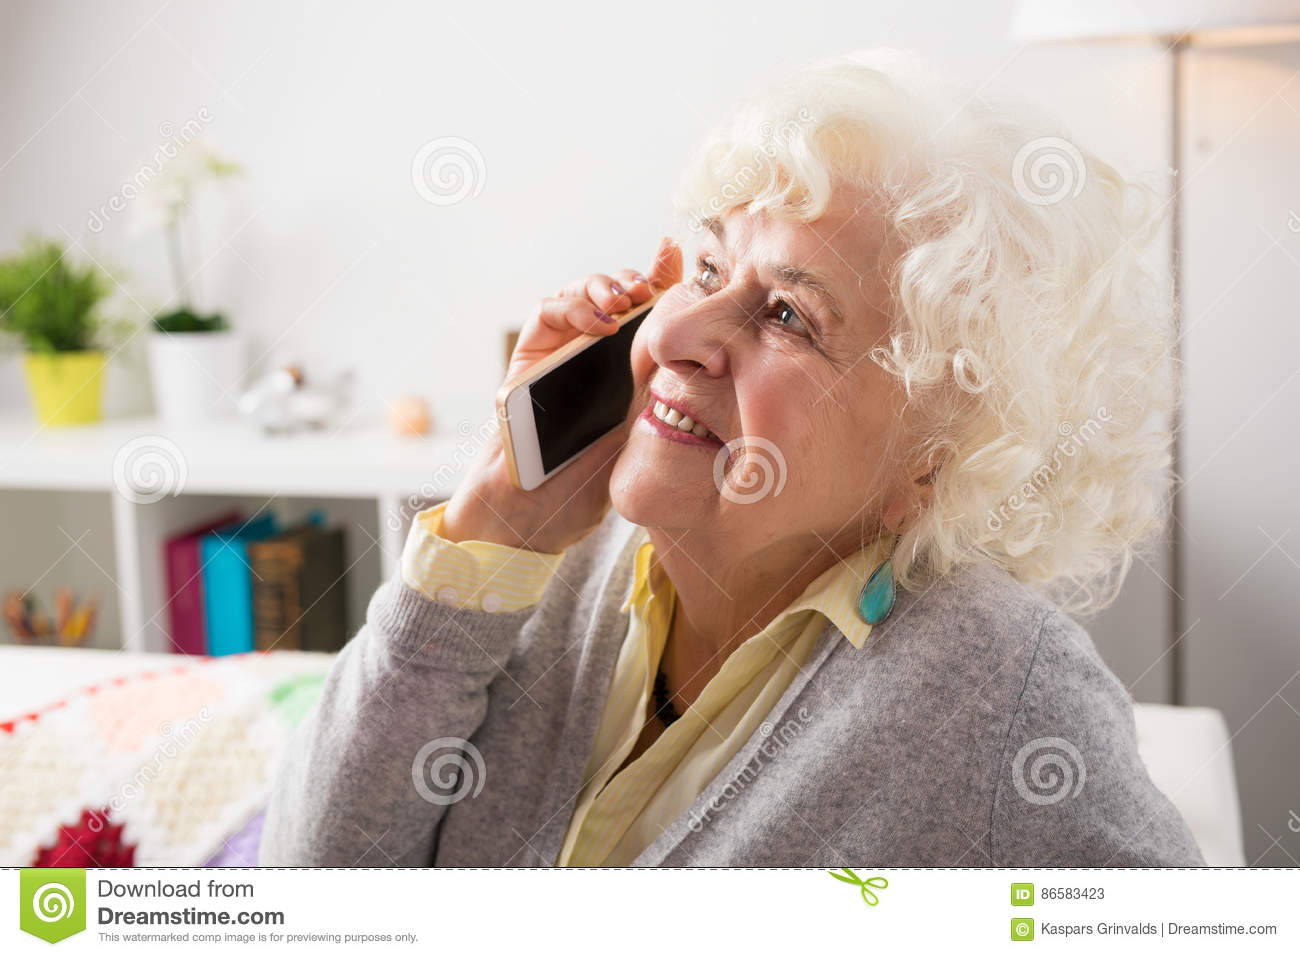phone: (500, 293, 650, 493)
talk: (461, 198, 867, 608)
